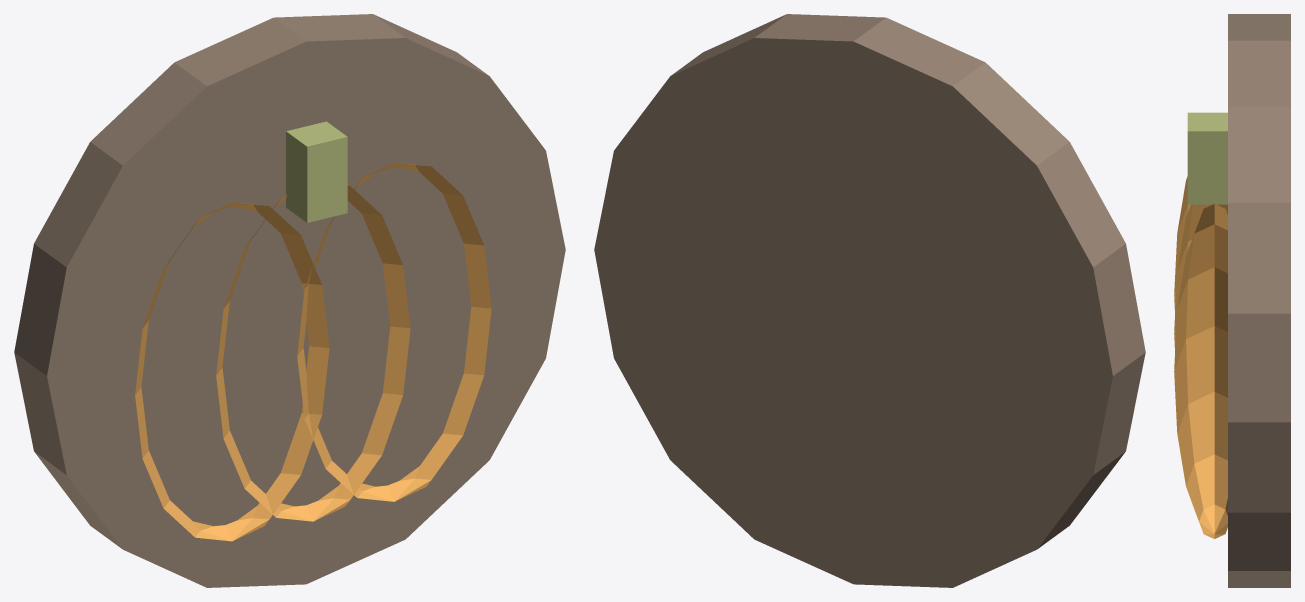
Rendered from harvest-hearth-pumpkin-harvest-badge__72.glb.
3 views of the same model, side by side, from view 1: azimuth 30°, elevation 25°; view 2: azimuth 150°, elevation 25°; view 3: azimuth 270°, elevation 25° (orthographic). The views are drawn at different scales.
Visible parts, largest first — view 1: harvest-hearth-harvest-badge; view 2: harvest-hearth-harvest-badge; view 3: harvest-hearth-harvest-badge.
Part boxes in pixels (left/top/right/bottom): harvest-hearth-harvest-badge: left=14, top=14, right=565, bottom=587; harvest-hearth-harvest-badge: left=594, top=14, right=1145, bottom=587; harvest-hearth-harvest-badge: left=1174, top=14, right=1290, bottom=587.
Bounding box in the file's own units: 0.64 × 0.64 × 0.13.
